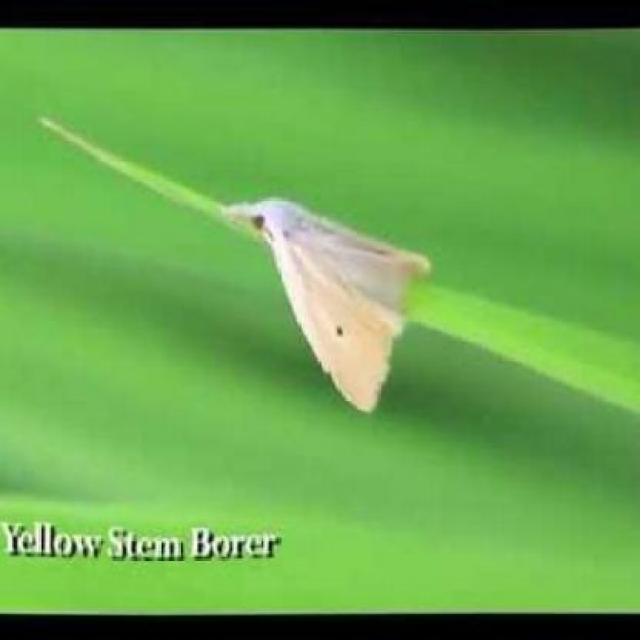stem-borer: (215, 195, 432, 414)
